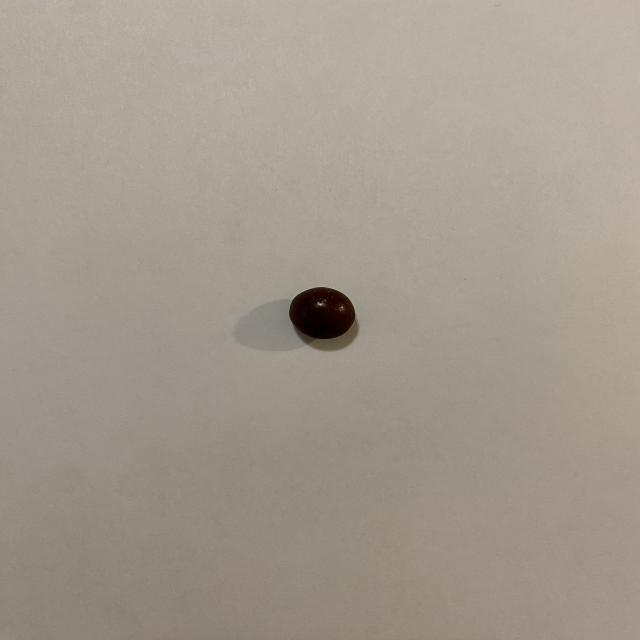smartie: (289, 287, 355, 339)
